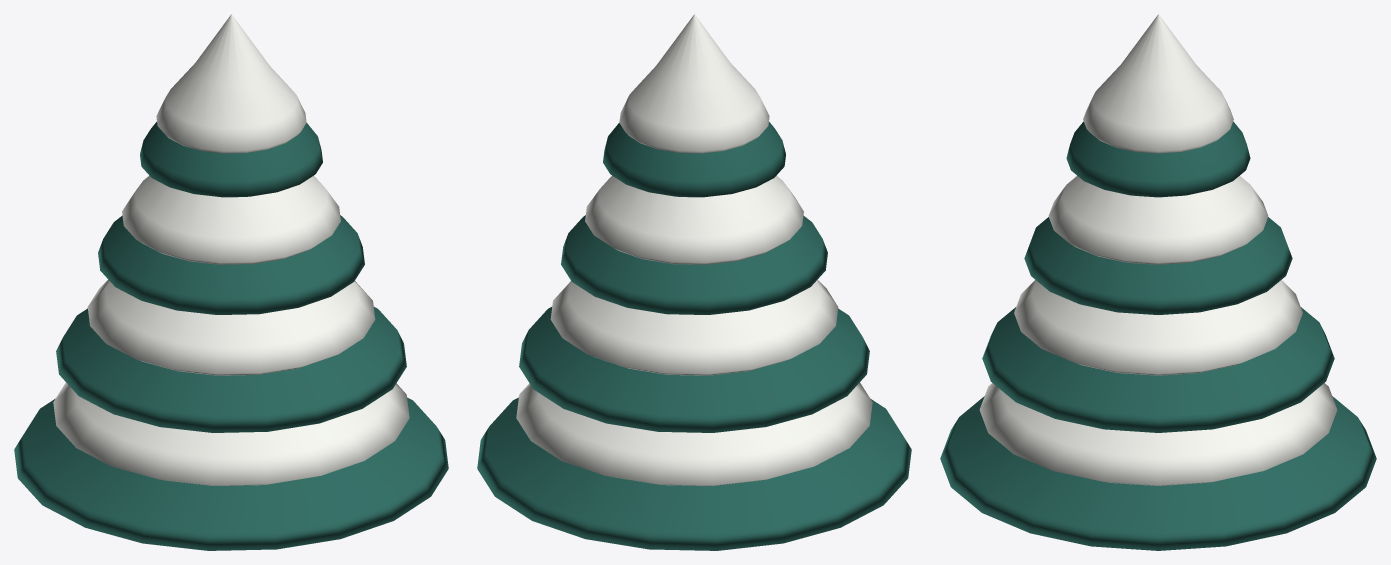
File: christmas-storybook-woodland-spruce-4cb261dd__18703.glb
3 renders of one model, left to right at view 1: azimuth 30°, elevation 25°; view 2: azimuth 150°, elevation 25°; view 3: azimuth 270°, elevation 25°, orthographic.
Visible parts, largest first — view 1: pine, cream; view 2: pine, cream; view 3: pine, cream.
Boxes of the visible parts, bbox=[...] form: pine: bbox=[14, 121, 448, 550]; cream: bbox=[53, 14, 409, 485]; pine: bbox=[477, 121, 911, 550]; cream: bbox=[516, 14, 872, 485]; pine: bbox=[940, 121, 1376, 550]; cream: bbox=[979, 14, 1337, 485].
Bounding box in the file's own units: 1.8 × 2.37 × 1.8.
